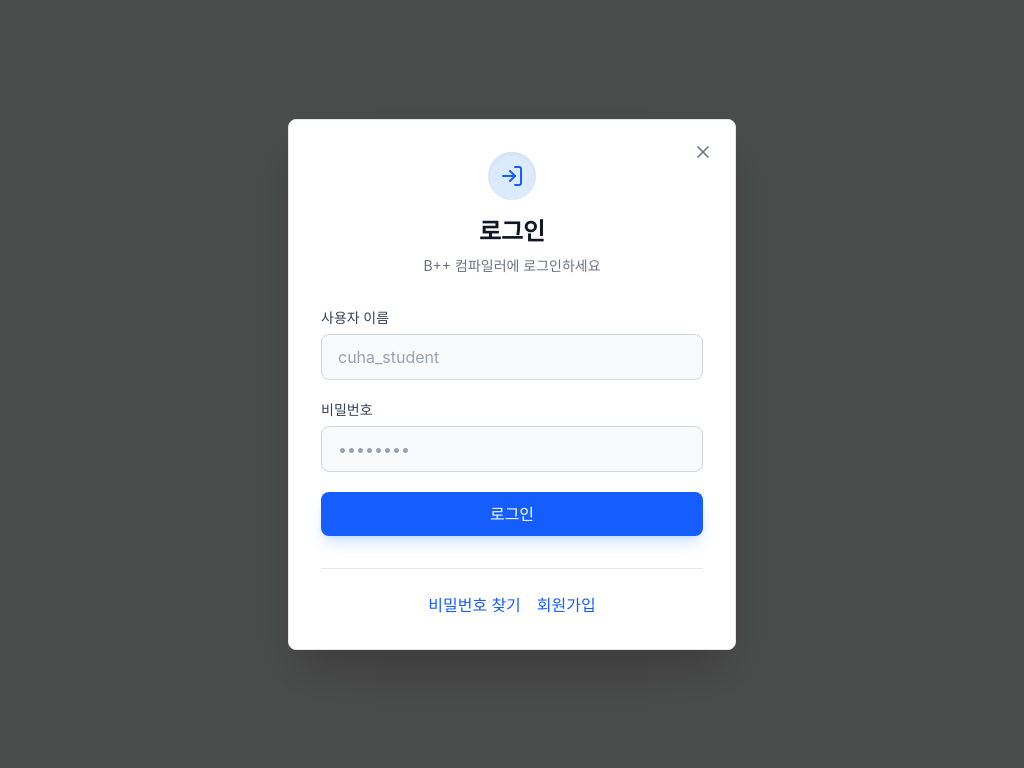
Test: AuthModal form accessibility › associates the password-request label with its input
What coordinates should you click on to do the following:
click the button "비밀번호 찾기"
I would click on:
 (475, 604)
Its box is left=428, top=592, right=521, bottom=616.
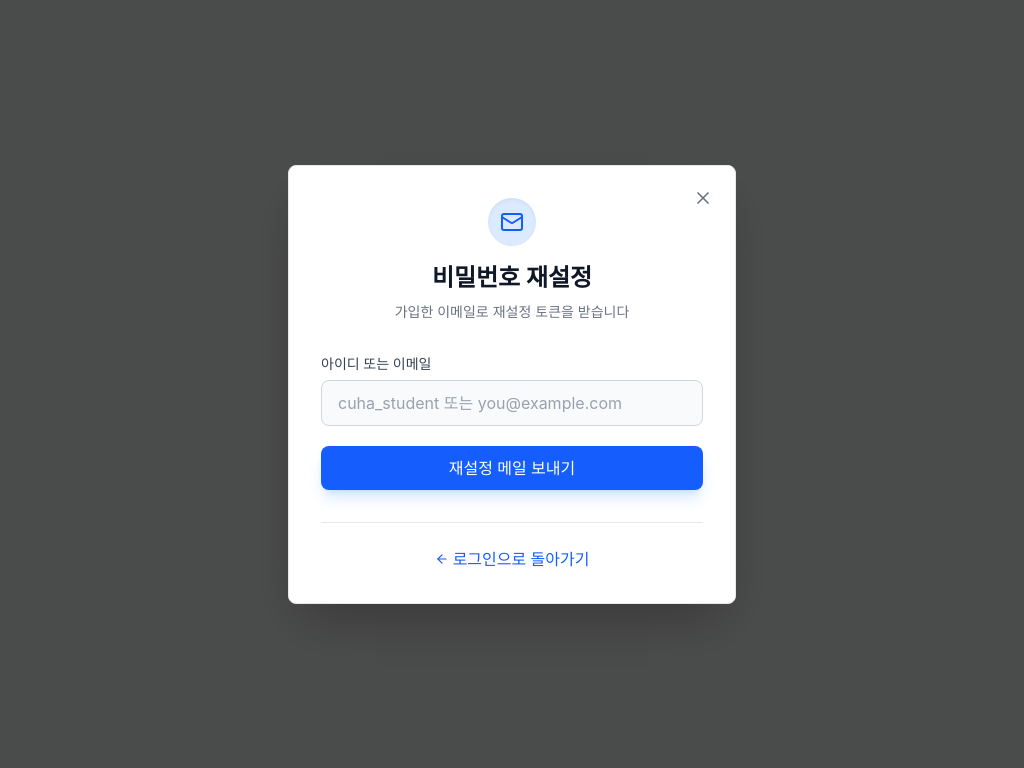
expect the field labelled "아이디 또는 이메일" is shown: met, box left=321, top=380, right=703, bottom=426
